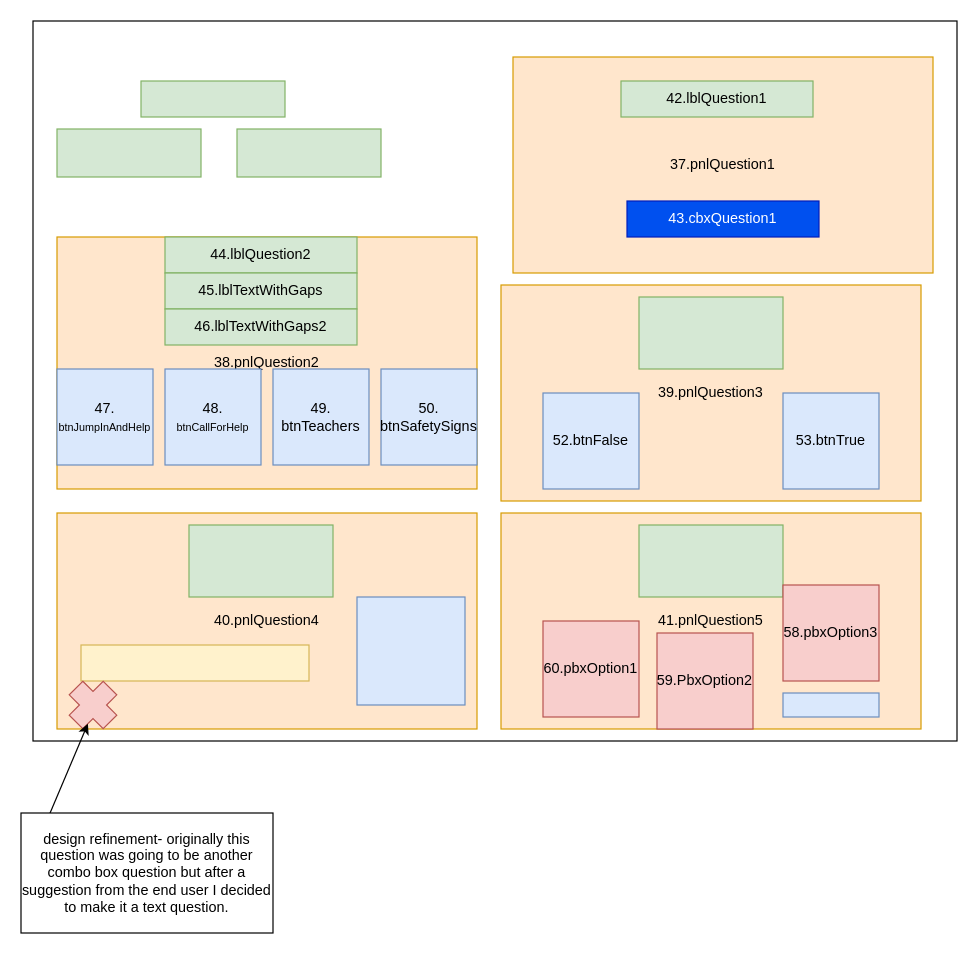
This 978x954 diagram has some shape labels left out. Here are the shapes that lost their labels. From the top down, the centre of each, then its label:
At [212,98]: "34.lblQuiz".
At [128,152]: "35.lblResult".
At [308,152]: "36.lblDisplayedResult".
At [710,332]: "51.lblQuestion3".
At [260,560]: "54.lblQuestion4".
At [710,560]: "57.lblQuestion5".
At [194,662]: "55.tbxQuestion4".
At [410,650]: "56.btnQuestion4".
At [830,704]: "60.btnNext".
